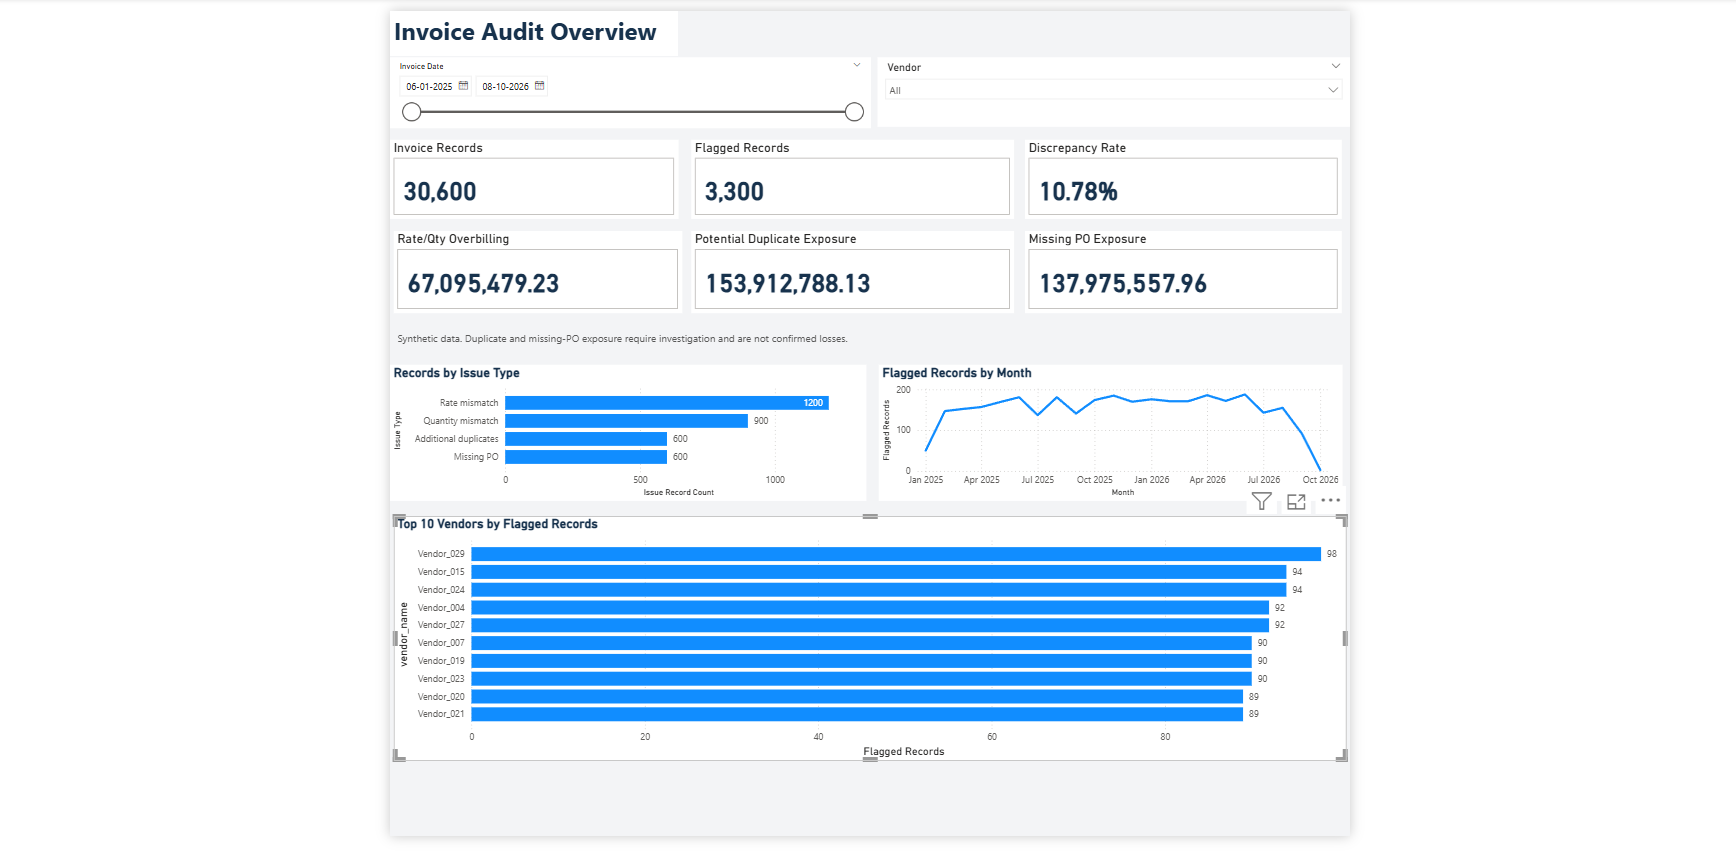

What the dashboard file says about the page in this screenshot:
{"tool":"powerbi","page":{"name":"Audit Overview","canvas":[1280,1100],"ordinal":0},"visuals":[{"type":"cardVisual","title":"Invoice Records","fields":{"Data":["public vw_invoice_audit.Invoice Records Display"]},"box":[0,172.4,384.6,105.3],"z":0},{"type":"cardVisual","title":"\tFlagged Records","fields":{"Data":["public vw_invoice_audit.Flagged Records Display"]},"box":[401.3,172.4,430.3,105.3],"z":1000},{"type":"cardVisual","title":"Discrepancy Rate","fields":{"Data":["public vw_invoice_audit.Discrepancy Rate Display"]},"box":[846.9,172.4,422.7,105.3],"z":2000},{"type":"clusteredBarChart","title":"Records by Issue Type","fields":{"Category":["Issue Types.Issue Type"],"Y":["public vw_invoice_audit.Issue Record Count"]},"box":[0,471.5,634.8,181.6],"z":3000},{"type":"slicer","fields":{"Values":["public vw_invoice_audit.invoice_date"]},"box":[0,61.9,639.9,93.7],"z":4000},{"type":"slicer","fields":{"Values":["public vw_vendor_audit_summary.vendor_name"]},"box":[650.1,61,630.2,93.1],"z":5000},{"type":"clusteredBarChart","title":"Top 10 Vendors by Flagged Records","fields":{"Y":["public vw_invoice_audit.Flagged Records"],"Category":["public vw_vendor_audit_summary.vendor_name"]},"box":[4.6,673,1269.6,326.6],"z":6000},{"type":"lineChart","title":"Flagged Records by Month","fields":{"Y":["public vw_invoice_audit.Flagged Records"],"Category":["public vw_invoice_audit.invoice_date.Variation.Date Hierarchy.Year","public vw_invoice_audit.invoice_date.Variation.Date Hierarchy.Month"]},"box":[651.6,471.5,618,181.6],"z":7000},{"type":"cardVisual","title":"Rate/Qty Overbilling","fields":{"Data":["public vw_invoice_audit.Rate Qty Overbilling Display"]},"box":[4.6,293,384.6,109.9],"z":8000},{"type":"cardVisual","title":"Potential Duplicate Exposure","fields":{"Data":["public vw_invoice_audit.Duplicate Exposure Display"]},"box":[401.3,293,430.3,109.9],"z":9000},{"type":"cardVisual","title":"Missing PO Exposure","fields":{"Data":["public vw_invoice_audit.Missing PO Exposure Display"]},"box":[846.9,293,422.7,109.9],"z":10000},{"type":"textbox","box":[0,0,384.2,60.3],"z":11000},{"type":"textbox","box":[4.6,421.2,1124.7,38.1],"z":12000}]}

Visuals, with their boxes on the page's 1280x1100 design canvas (x1, y1, x2, y2). These are canvas units, not pixel positions in the 1736x862 screenshot, which may show the page scaled, cropped or inside an application window:
"Invoice Records" cardVisual: select_region(0, 172, 385, 278)
"	Flagged Records" cardVisual: select_region(401, 172, 832, 278)
"Discrepancy Rate" cardVisual: select_region(847, 172, 1270, 278)
"Records by Issue Type" clusteredBarChart: select_region(0, 472, 635, 653)
slicer - public vw_invoice_audit.invoice_date: select_region(0, 62, 640, 156)
slicer - public vw_vendor_audit_summary.vendor_name: select_region(650, 61, 1280, 154)
"Top 10 Vendors by Flagged Records" clusteredBarChart: select_region(5, 673, 1274, 1000)
"Flagged Records by Month" lineChart: select_region(652, 472, 1270, 653)
"Rate/Qty Overbilling" cardVisual: select_region(5, 293, 389, 403)
"Potential Duplicate Exposure" cardVisual: select_region(401, 293, 832, 403)
"Missing PO Exposure" cardVisual: select_region(847, 293, 1270, 403)
textbox: select_region(0, 0, 384, 60)
textbox: select_region(5, 421, 1129, 459)
